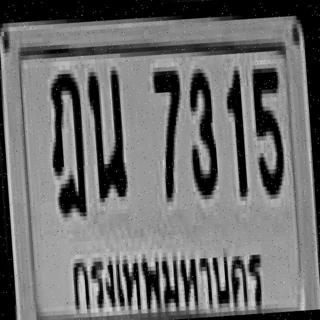A14: (44, 69, 86, 214)
A25: (85, 66, 126, 198)
N01: (223, 66, 246, 193)
N03: (183, 64, 218, 196)
N05: (250, 63, 284, 195)
N07: (151, 66, 186, 198)
P04: (64, 233, 267, 320)
